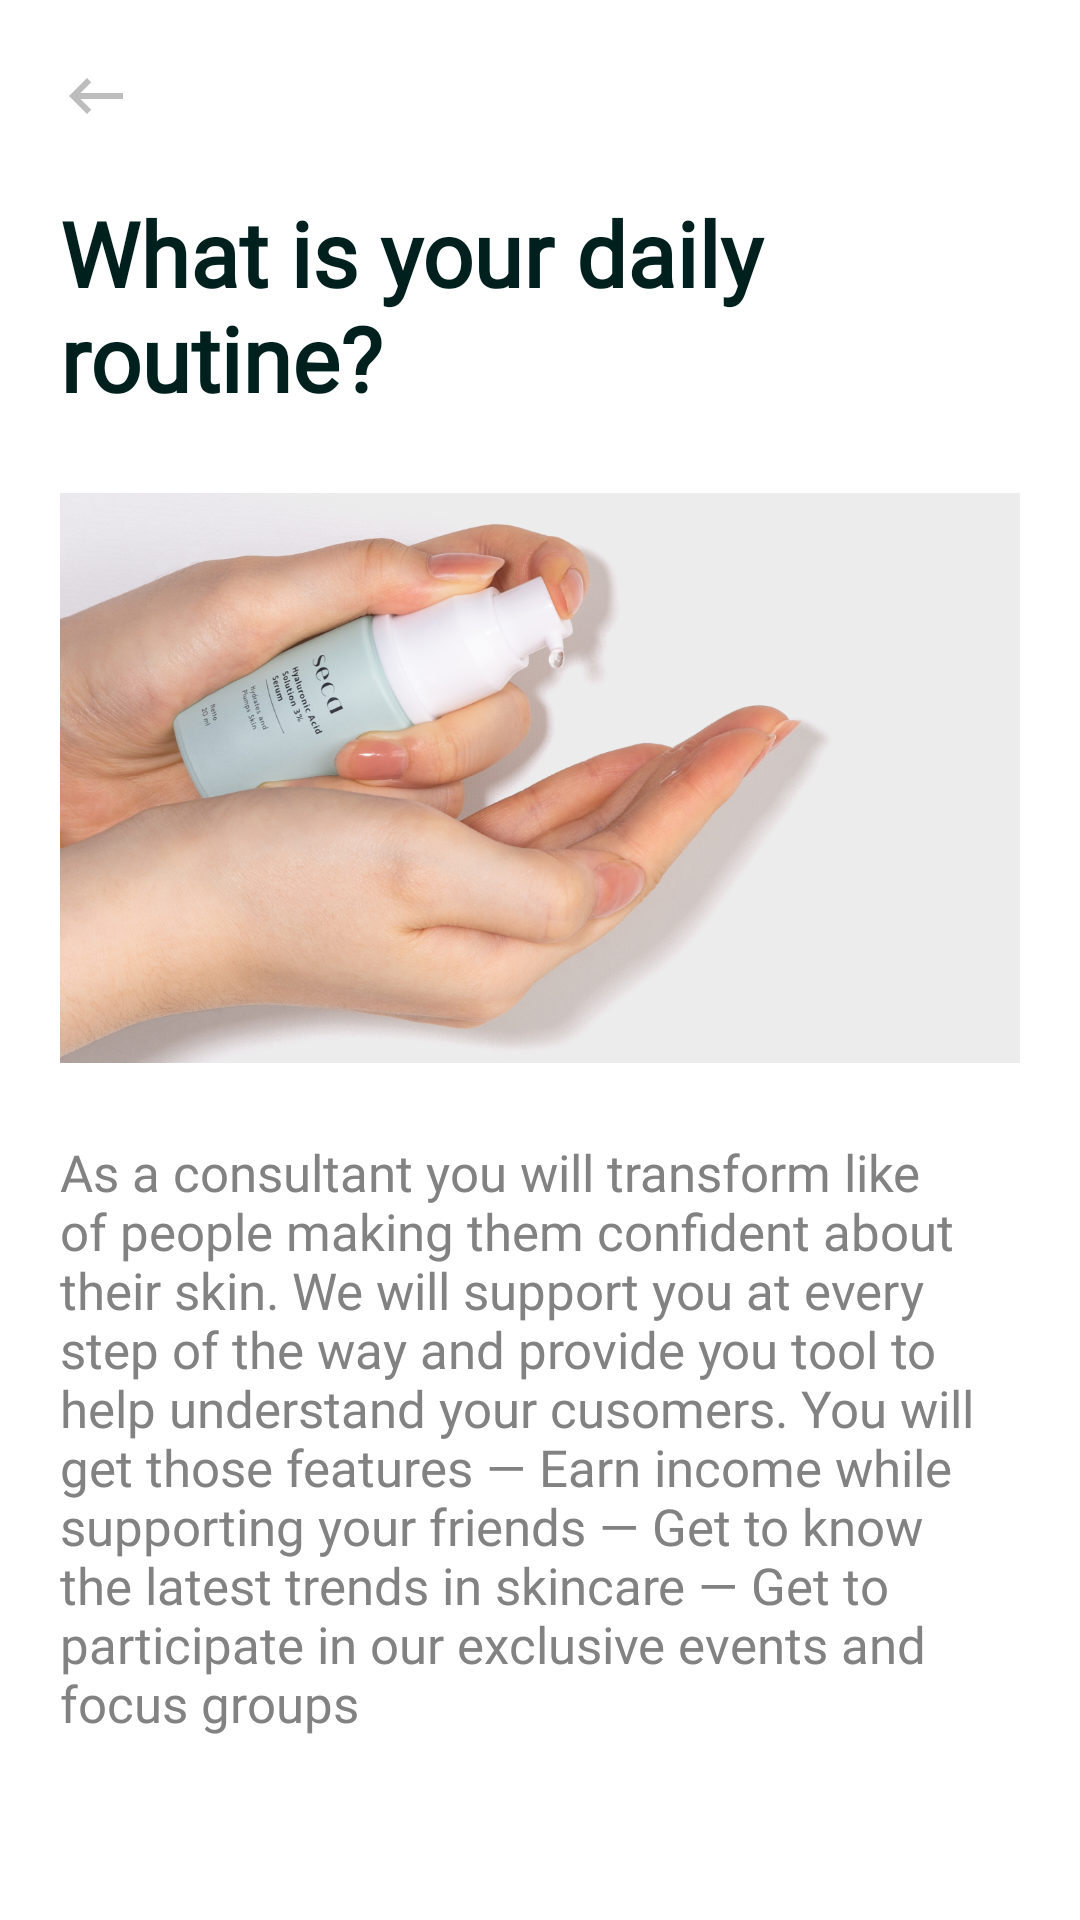

Where icons sit on this 1080px x 1920px app screen, as detection(x1, y1, x2, y2):
back: detection(69, 78, 123, 114)
